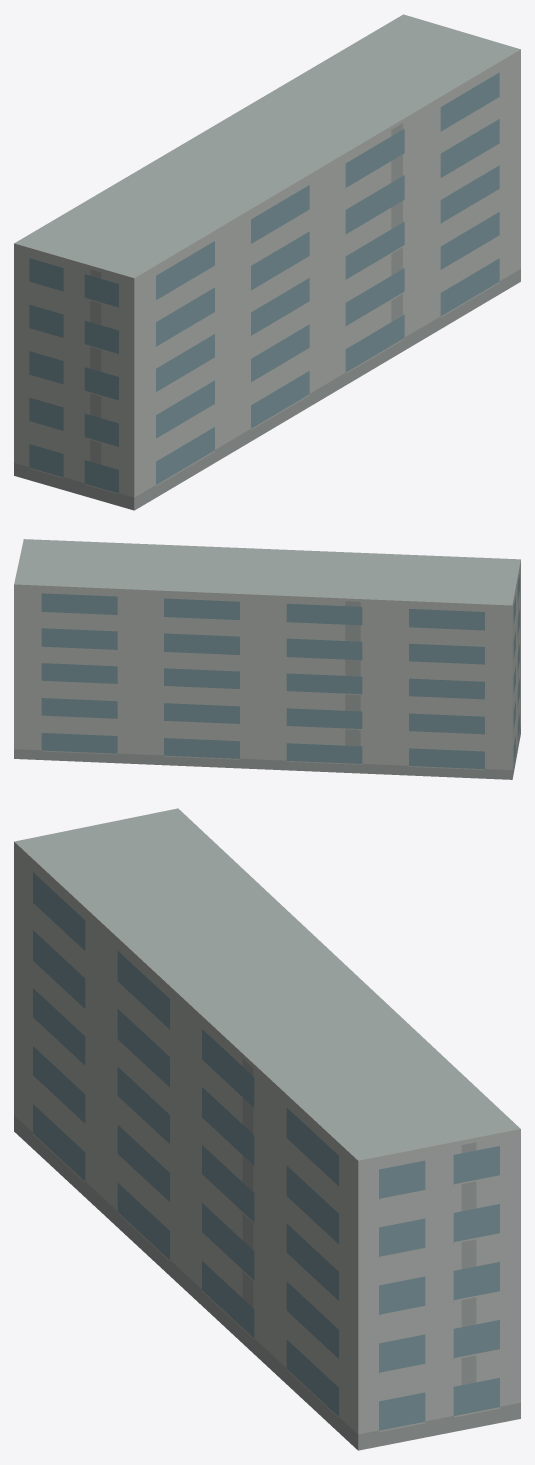
File: survey-upis-32571345.glb
3 views of the same model, one above another, from view 1: azimuth 30°, elevation 25°; view 2: azimuth 150°, elevation 25°; view 3: azimuth 270°, elevation 25° (orthographic). The views are drawn at different scales.
Visible parts, largest first — view 1: survey-upis-32571345.tmp; view 2: survey-upis-32571345.tmp; view 3: survey-upis-32571345.tmp.
Part boxes in pixels (x1,y1,x2,y2): survey-upis-32571345.tmp: [14, 14, 520, 510]; survey-upis-32571345.tmp: [14, 539, 520, 779]; survey-upis-32571345.tmp: [14, 808, 520, 1450].
Bounding box in the file's own units: 39.78 × 15.25 × 24.18.
